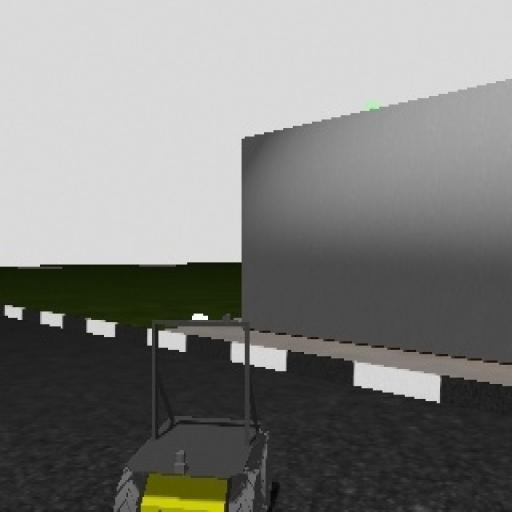huskya200: (99, 305, 289, 512)
